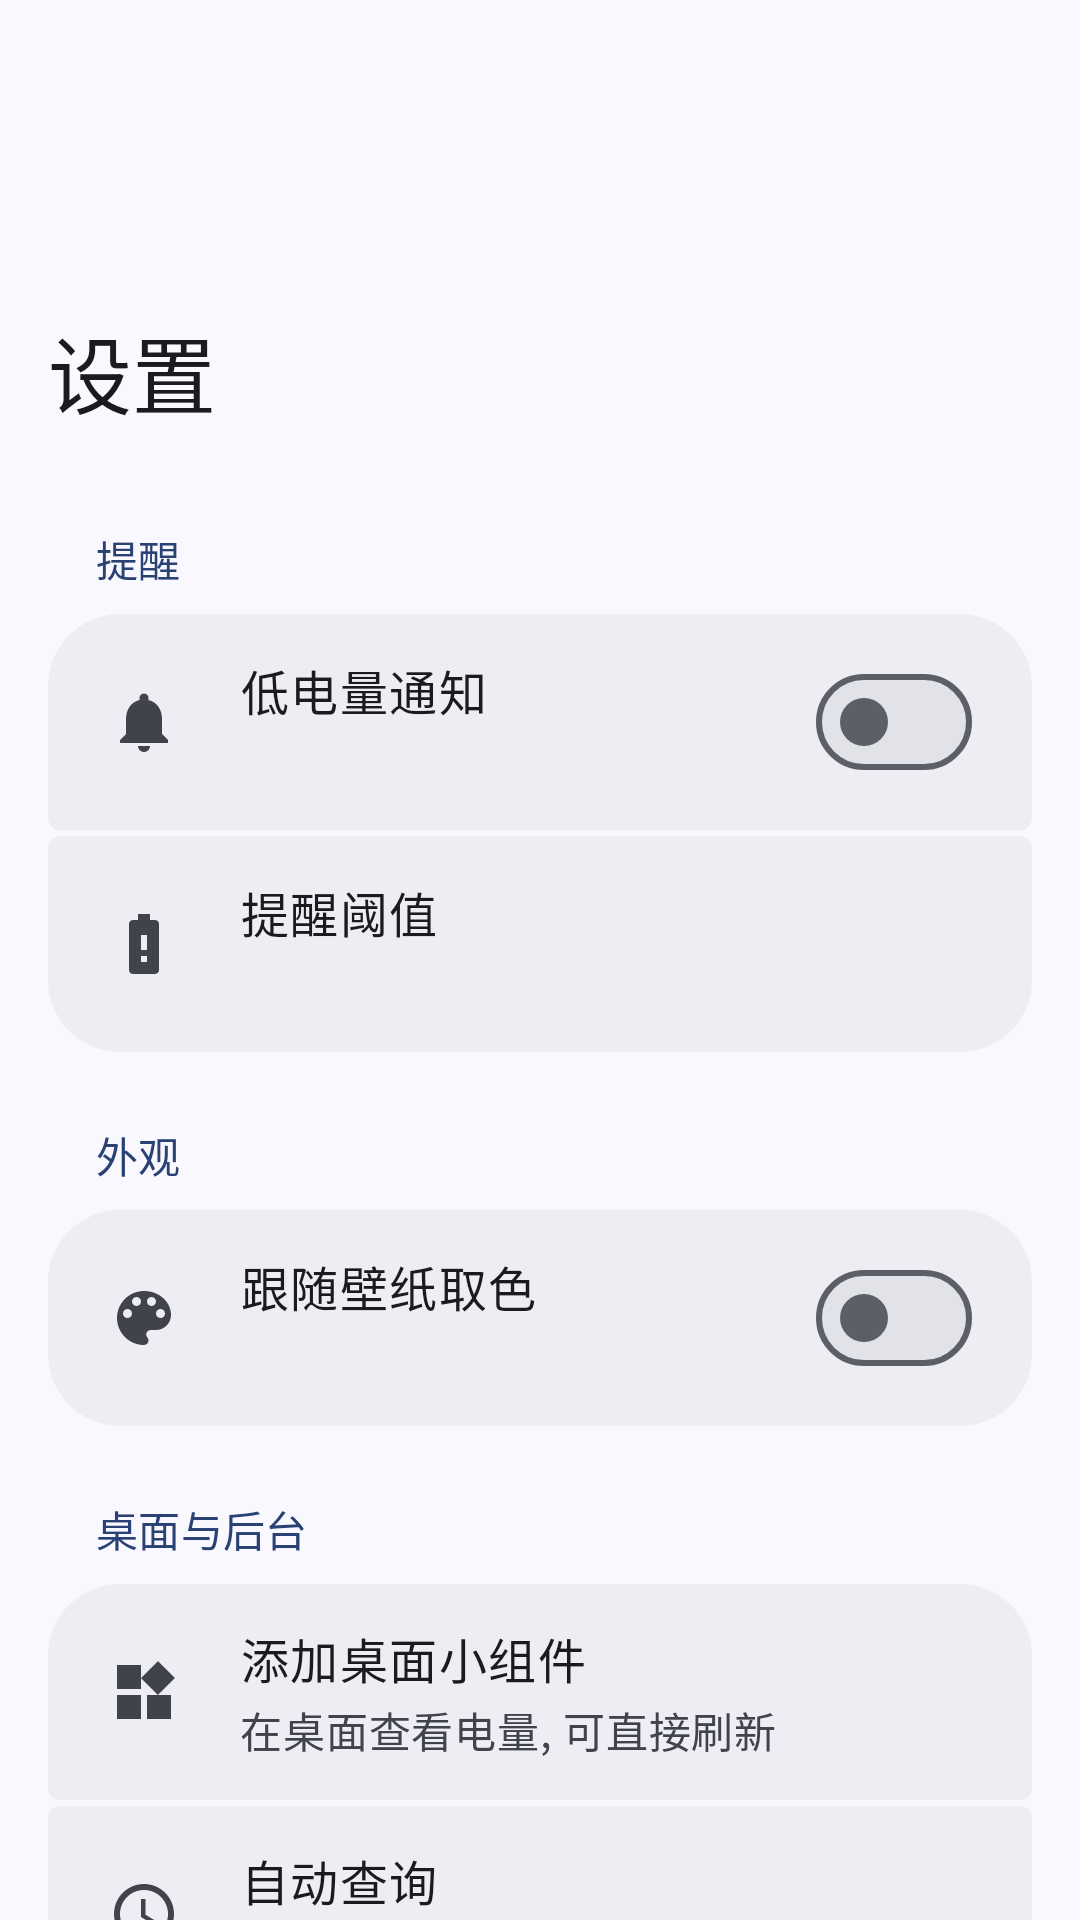

Where icons sit on this 1080 × 1920 app screen, as (x1, y1, x2, y2):
battery alert: (129, 914, 159, 974)
notifications: (120, 693, 168, 752)
palette: (117, 1291, 171, 1345)
widgets: (117, 1661, 175, 1719)
